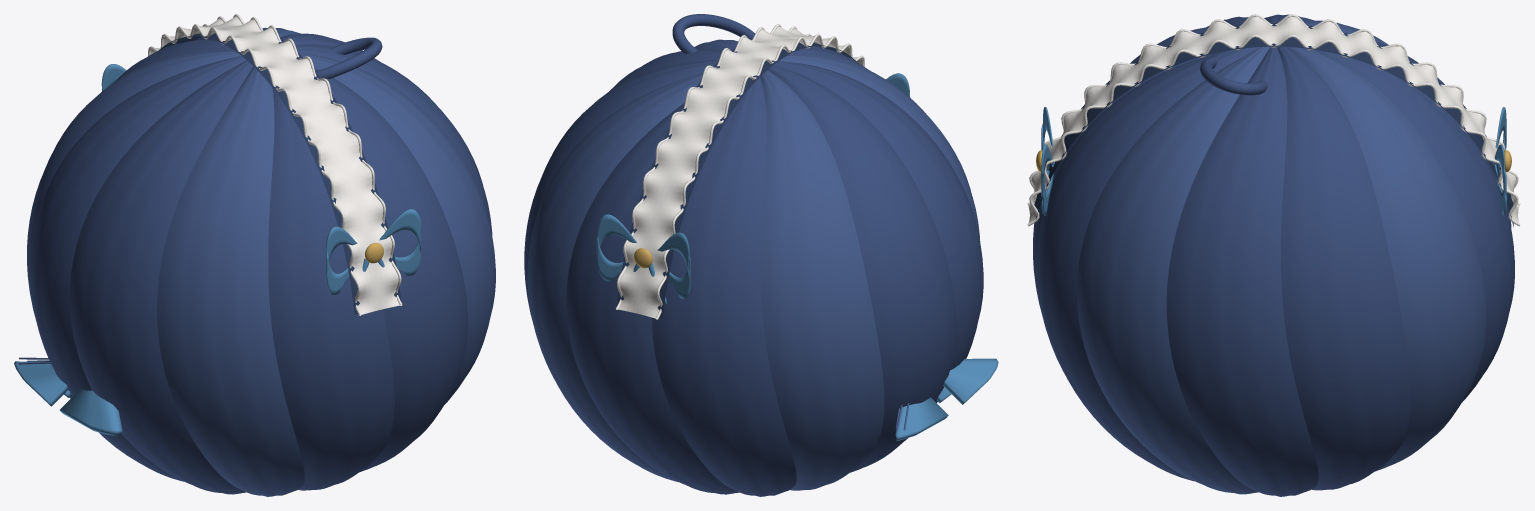
The model's file is v17_whale_ball.glb.
3 views of the same model, side by side, from view 1: azimuth 30°, elevation 25°; view 2: azimuth 150°, elevation 25°; view 3: azimuth 270°, elevation 25° (orthographic). The views are drawn at different scales.
Visible parts, largest first — view 1: Whale sculpted indigo hair, Whale soft blue strands, Whale warm ivory cotton lace, Whale blue satin ribbons, Whale recessed hairline; view 2: Whale sculpted indigo hair, Whale soft blue strands, Whale warm ivory cotton lace, Whale blue satin ribbons, Whale recessed hairline; view 3: Whale sculpted indigo hair, Whale soft blue strands, Whale warm ivory cotton lace, Whale recessed hairline, Whale blue satin ribbons.
Boxes of the visible parts, box(x1,y1,x2,y2) form: Whale sculpted indigo hair: box(30, 33, 492, 494); Whale soft blue strands: box(18, 27, 495, 496); Whale warm ivory cotton lace: box(148, 14, 402, 315); Whale blue satin ribbons: box(14, 64, 420, 435); Whale recessed hairline: box(159, 29, 401, 314); Whale sculpted indigo hair: box(524, 14, 983, 496); Whale soft blue strands: box(527, 39, 980, 490); Whale warm ivory cotton lace: box(615, 24, 864, 319); Whale blue satin ribbons: box(596, 73, 998, 440); Whale recessed hairline: box(617, 39, 856, 318); Whale sculpted indigo hair: box(1033, 14, 1514, 496); Whale soft blue strands: box(1077, 20, 1486, 494); Whale warm ivory cotton lace: box(1027, 14, 1520, 226); Whale recessed hairline: box(1034, 23, 1513, 227); Whale blue satin ribbons: box(1040, 107, 1507, 215).
Size of the model in its own units: 2.02 by 2.04 by 2.04.
